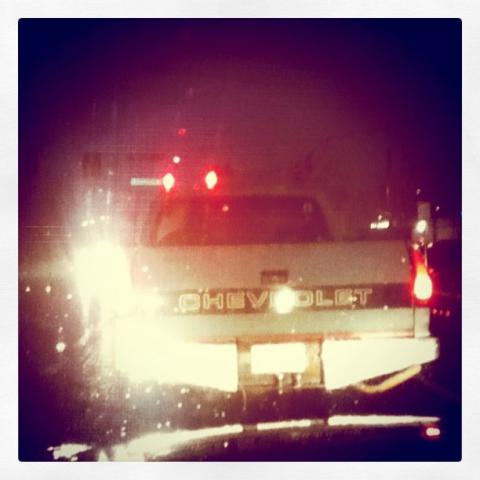truck: (78, 188, 439, 395)
